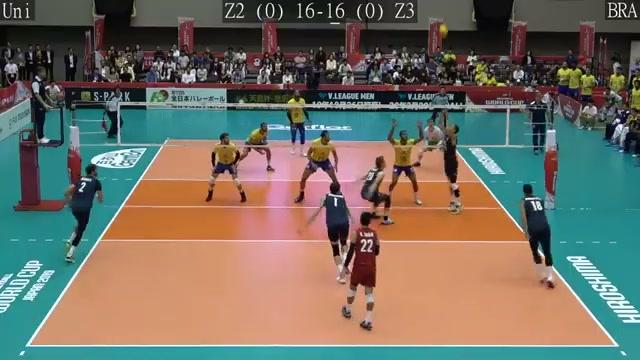ball: (437, 22, 449, 34)
